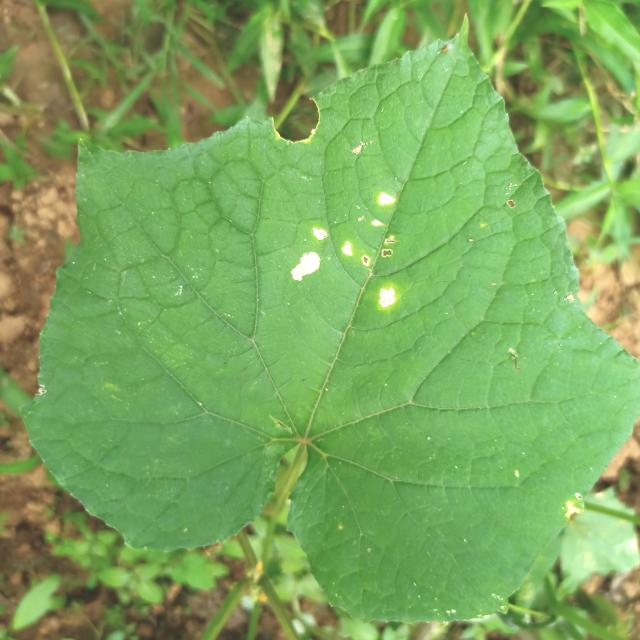disease_cucumber: (291, 189, 402, 311)
